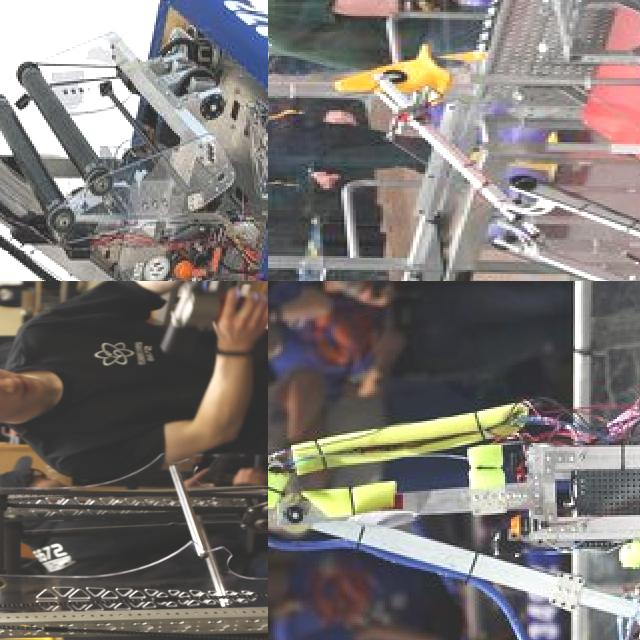FRC-Robots: (268, 281, 640, 640), (339, 12, 640, 281), (0, 0, 268, 281), (0, 426, 268, 640)
